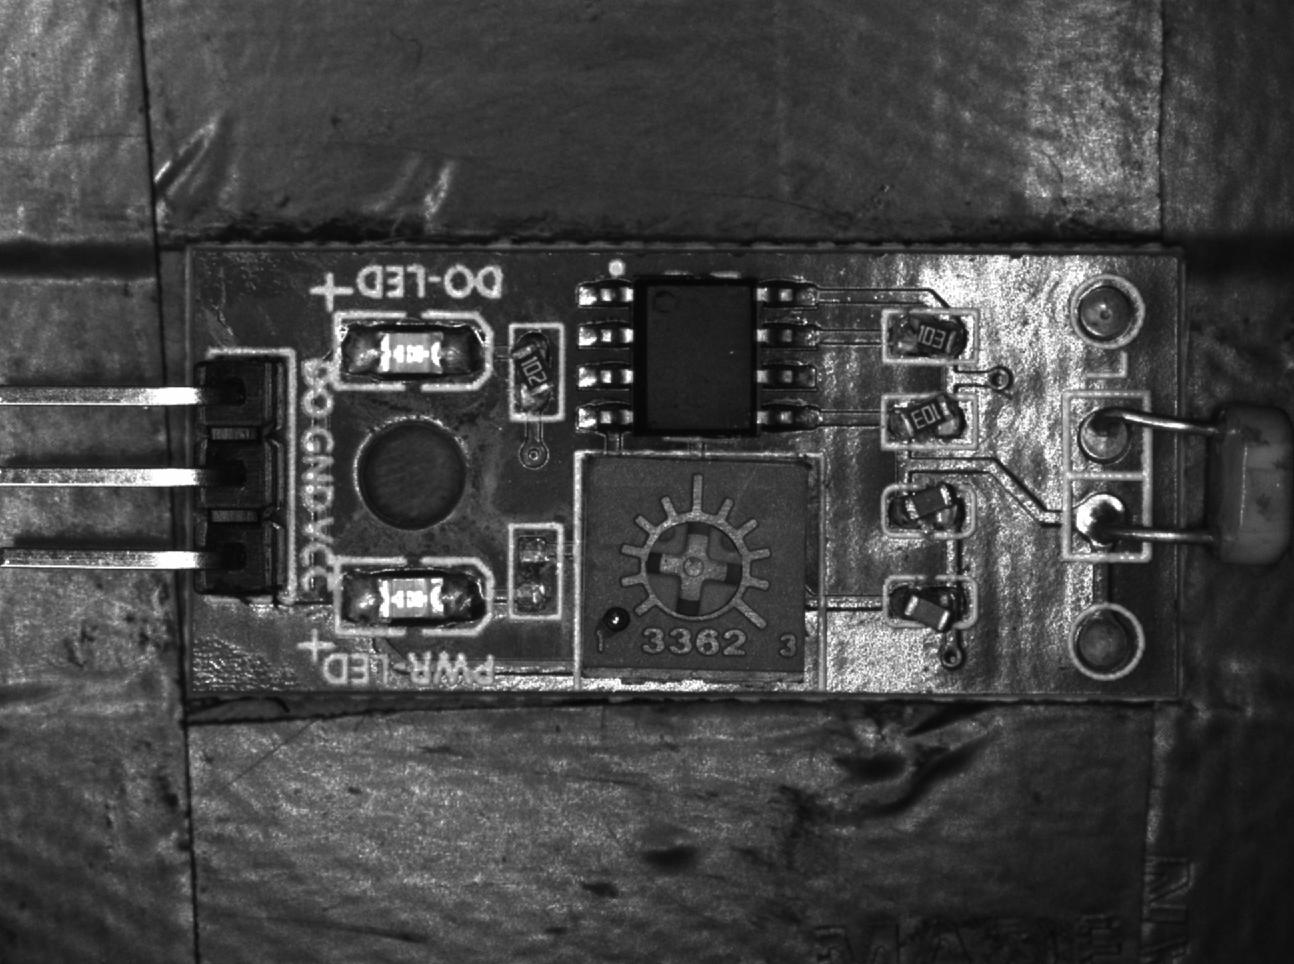lifted: (508, 323, 561, 424), (882, 393, 978, 447), (886, 576, 976, 631), (884, 482, 976, 535), (886, 312, 977, 361)
miss: (508, 525, 562, 618)
